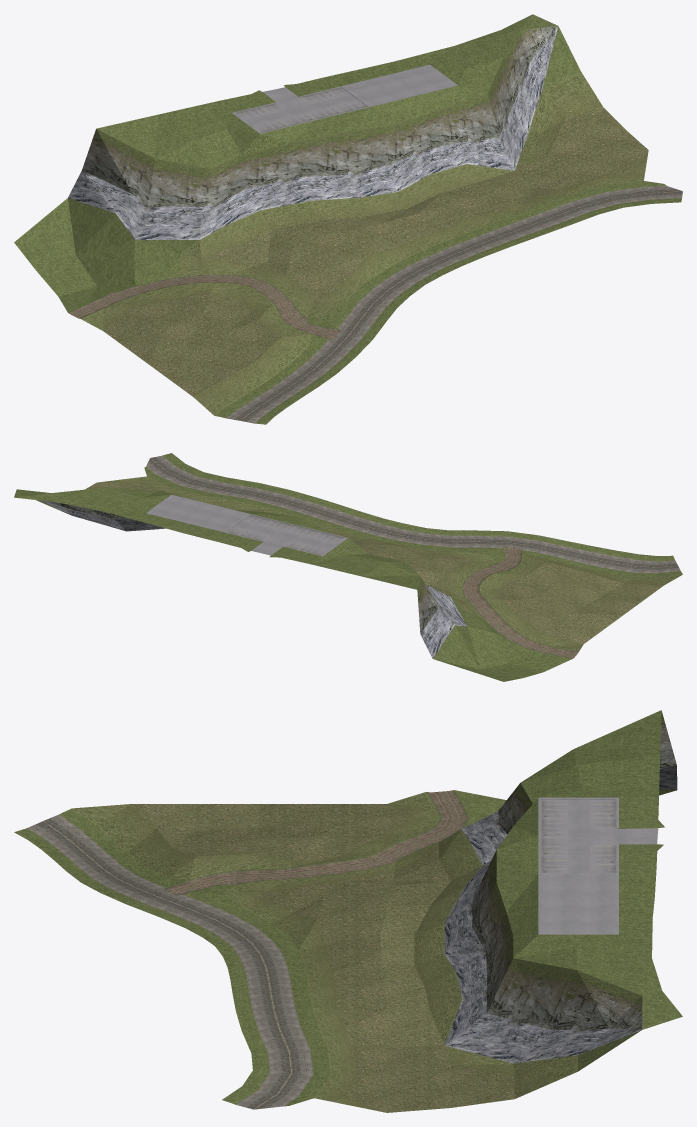
The model's file is n_bit_10.obj.
3 renders of one model, top to bottom at view 1: azimuth 30°, elevation 25°; view 2: azimuth 150°, elevation 25°; view 3: azimuth 270°, elevation 25°, orthographic. The views are drawn at different scales.
Parts seen in each view (by area): view 1: n_bit_10; view 2: n_bit_10; view 3: n_bit_10.
Boxes of the visible parts, x1,y1,x2,y2 form: n_bit_10: (14,14,682,424); n_bit_10: (14,453,682,681); n_bit_10: (14,710,682,1112).
Size of the model in its own units: 252 by 50.95 by 185.
9 materials, 9 textured.
